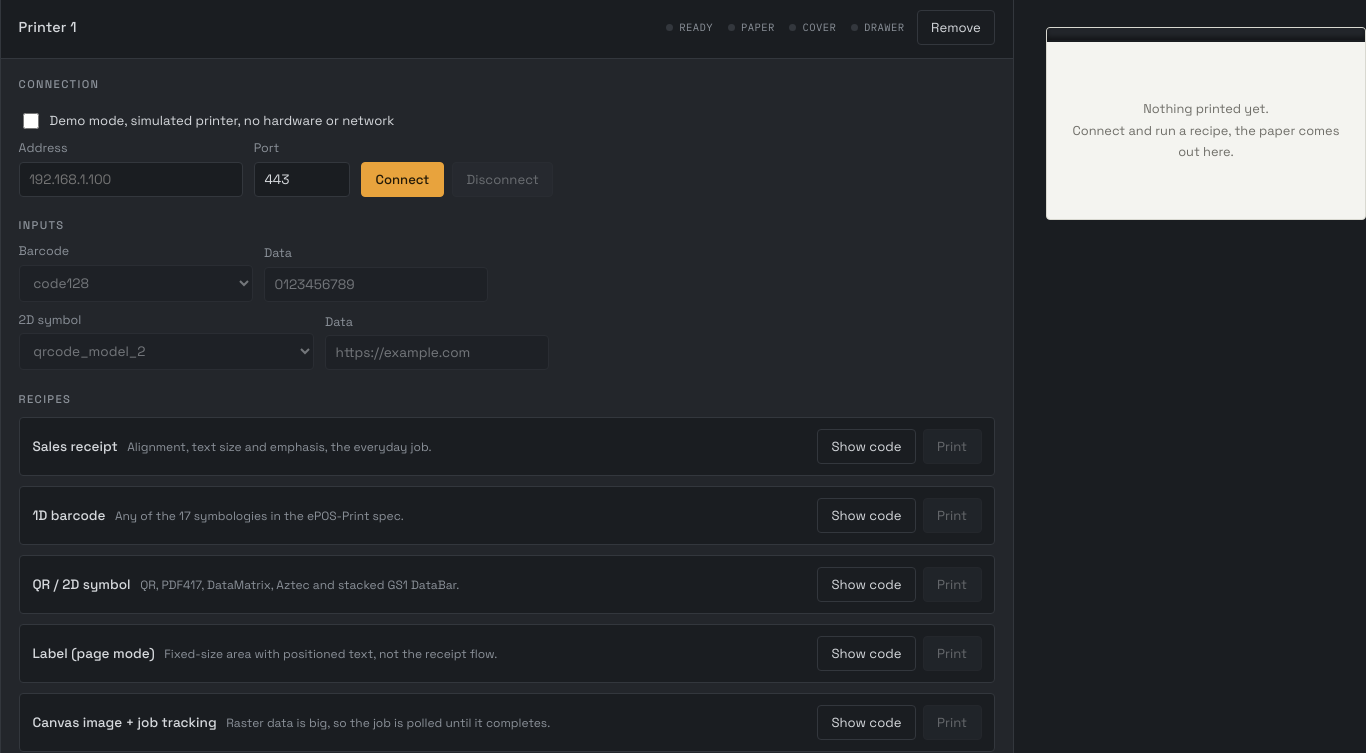
Test: demo flow › reports the status readout after querying
This screenshot has width=1366, height=753.
Click the checkbox labelled "Demo mode, simulated printer, no hardware or network". click: (31,121)
box: [23,113,39,129]
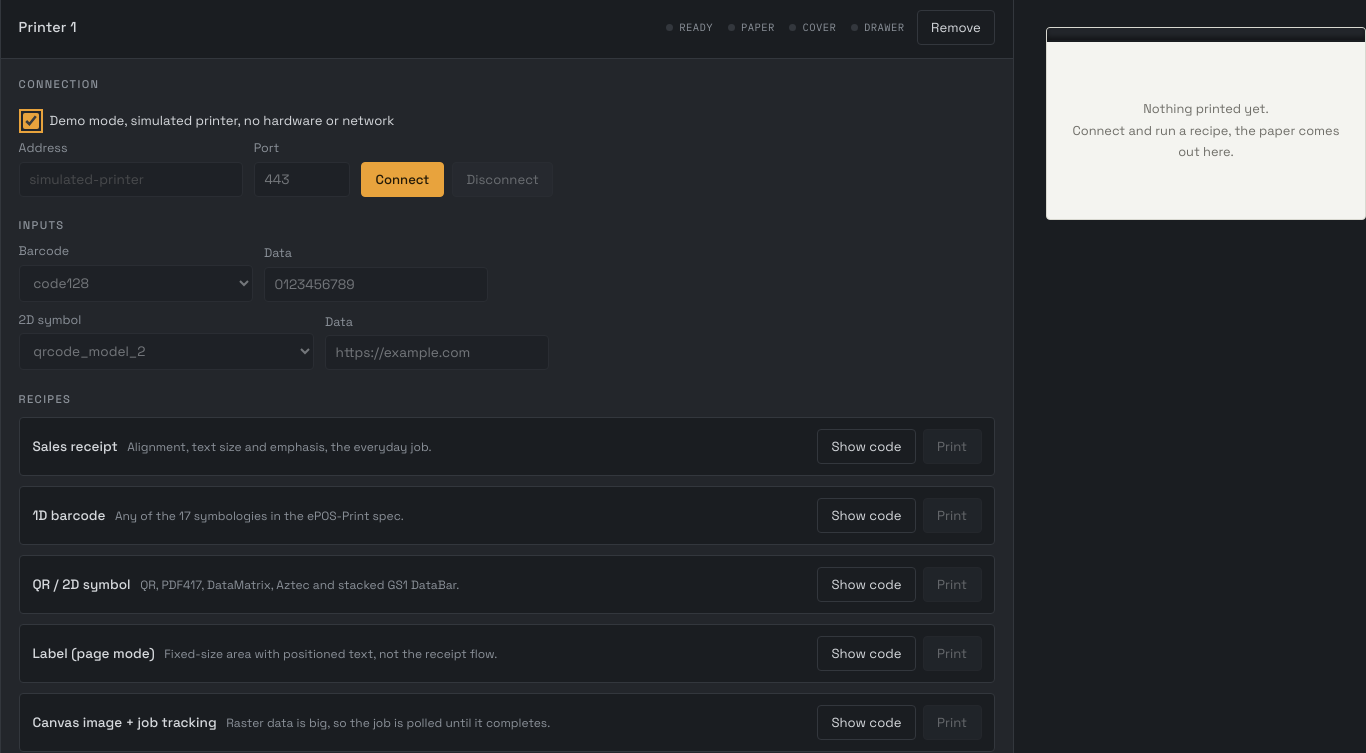
Click the button "Connect". click: (402,179)
box: [361,162,444,197]
(page scrolled)
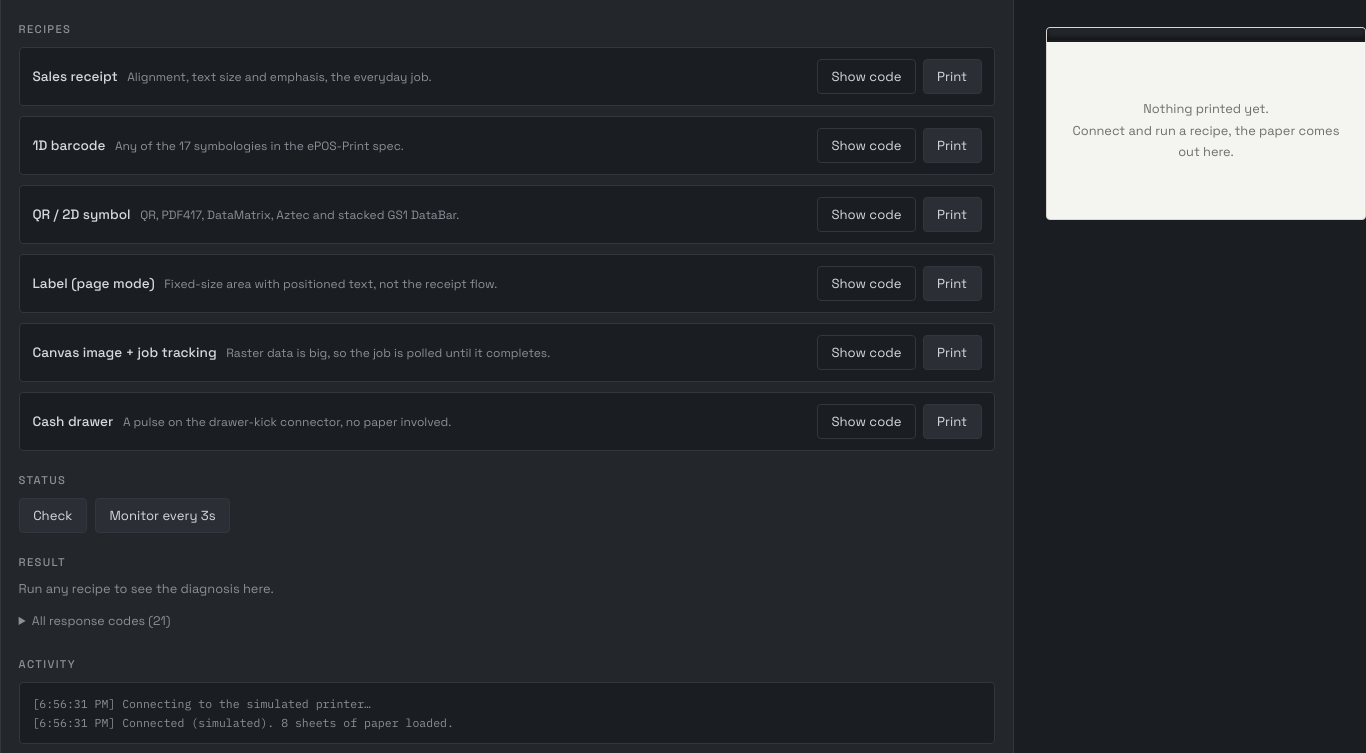
Click the button "Check". click: (53,515)
box: [19,498,87,533]
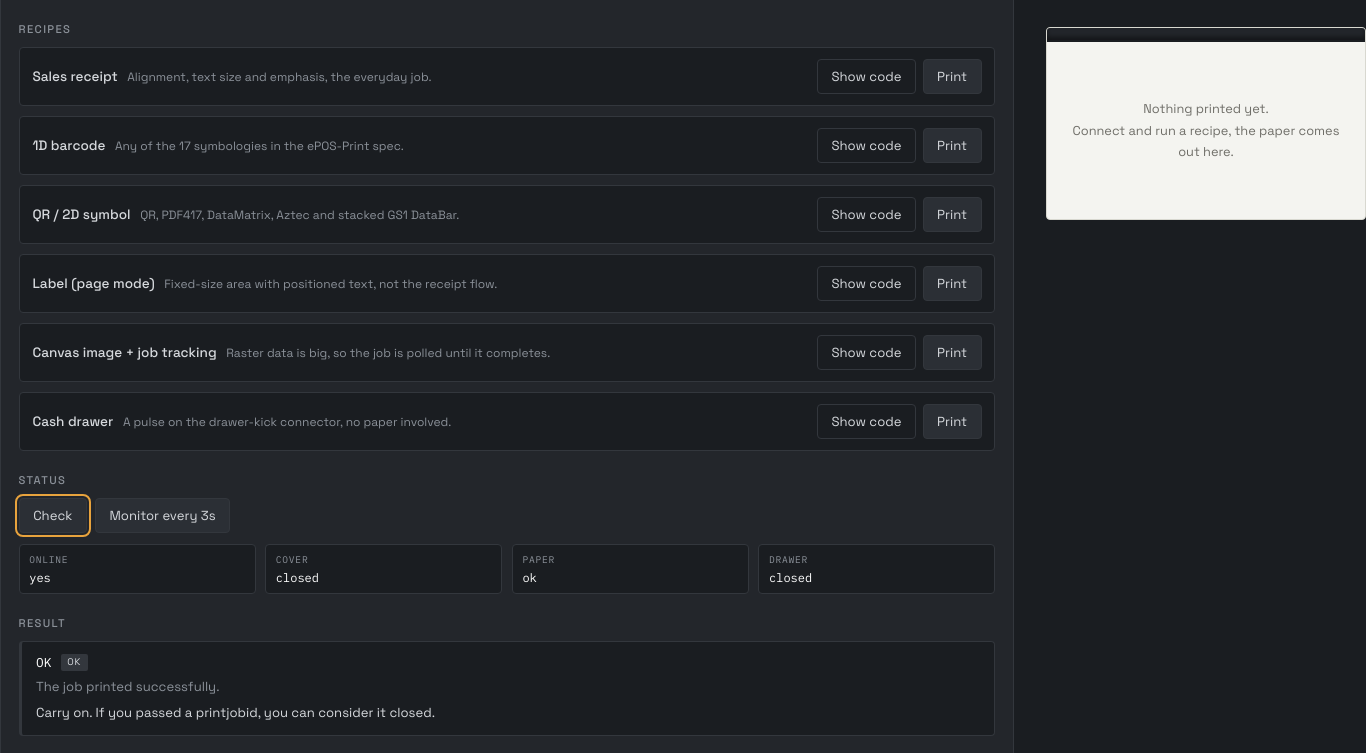
Result: the text "Online" is shown at [29,553,68,566]
Result: the text "Paper" is shown at [522,553,555,566]
